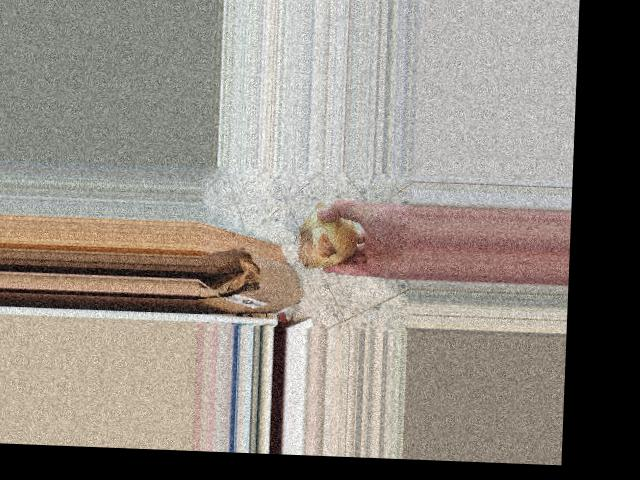onion: (295, 201, 362, 272)
